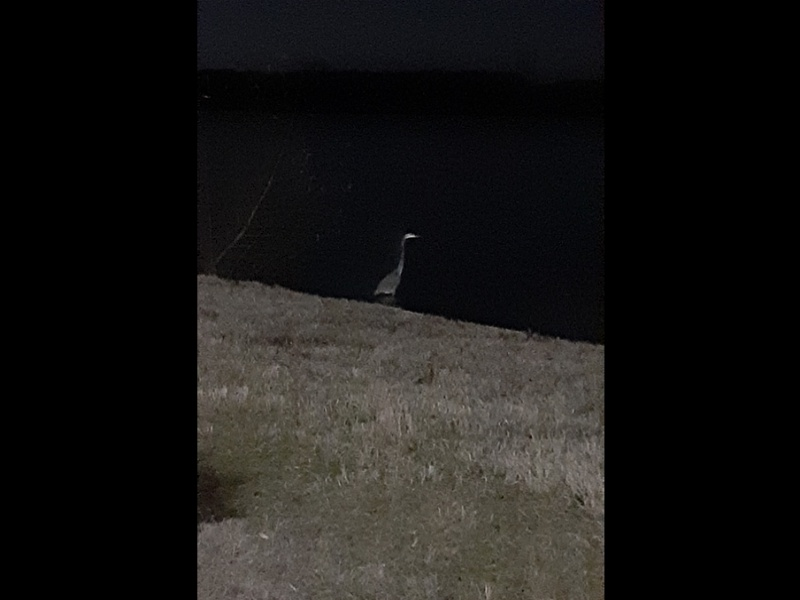heron: (369, 230, 419, 304)
